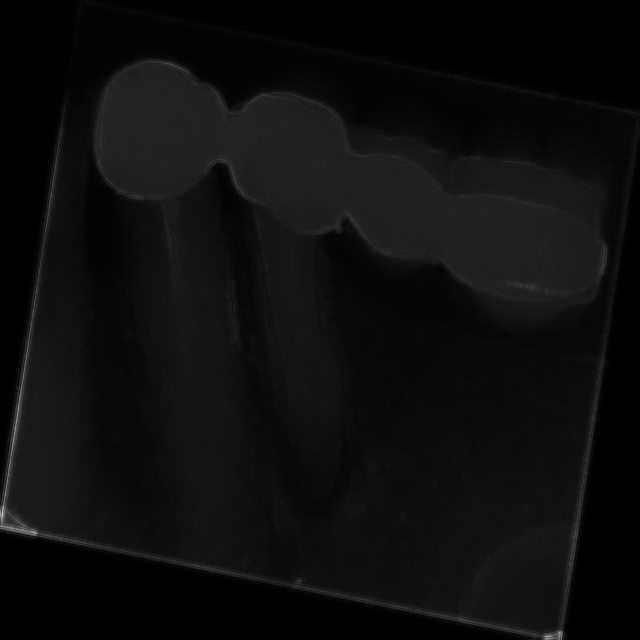Class 1- complete endodontic treatment: (2, 26, 330, 566)
Class 2- incomplete endodontic treatment: (165, 59, 447, 557)
